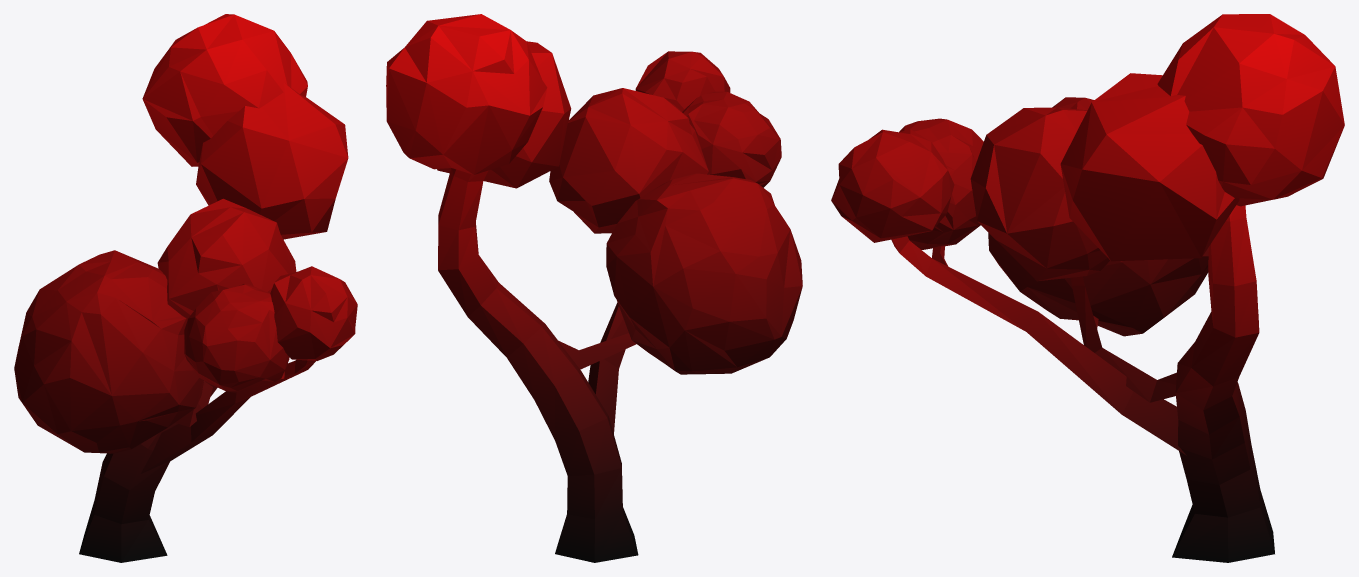
File: TreeBent03.fbx
The picture shows the model from 3 angles, left to right: view 1: azimuth 30°, elevation 25°; view 2: azimuth 150°, elevation 25°; view 3: azimuth 270°, elevation 25°; orthographic projection. The views are drawn at different scales.
Parts seen in each view (by area): view 1: TreeBent03_LOD0; view 2: TreeBent03_LOD0; view 3: TreeBent03_LOD0.
Boxes of the visible parts, x1,y1,x2,y2 form: TreeBent03_LOD0: (14, 14, 357, 562); TreeBent03_LOD0: (386, 14, 802, 562); TreeBent03_LOD0: (831, 14, 1344, 562).
Size of what is drawn, in the model's own units: 619 by 854 by 676.
